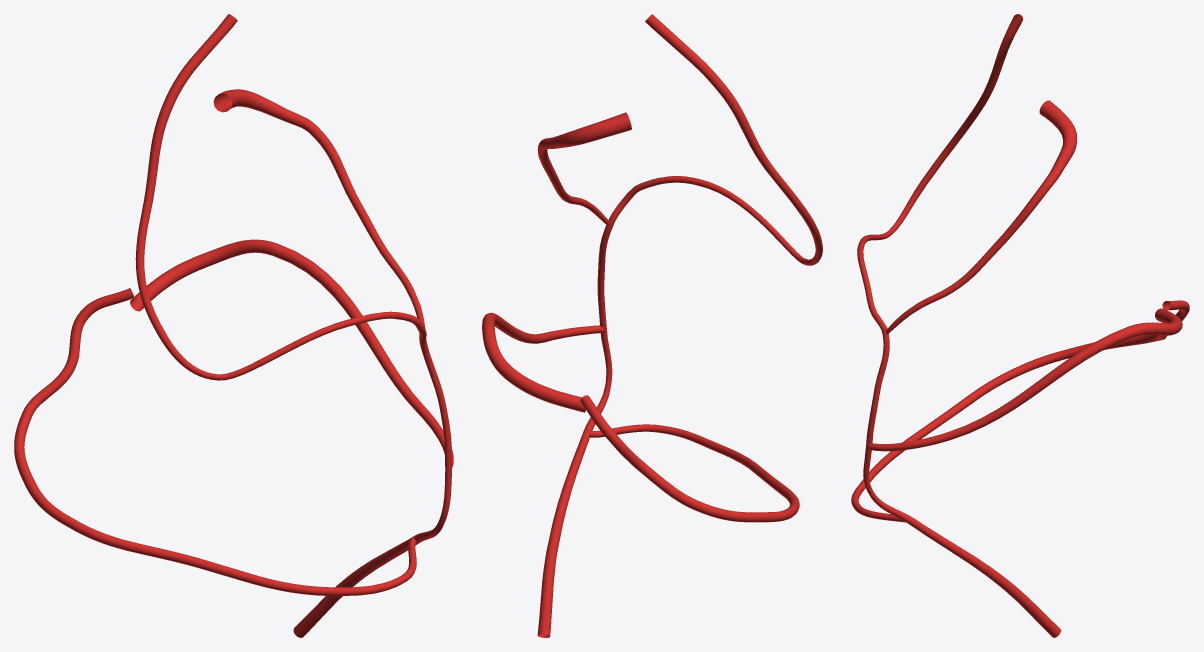
The model's file is circulatorio-genicular-veins-l.glb.
3 renders of one model, left to right at view 1: azimuth 30°, elevation 25°; view 2: azimuth 150°, elevation 25°; view 3: azimuth 270°, elevation 25°, orthographic. The views are drawn at different scales.
Parts seen in each view (by area): view 1: Genicular veins.l; view 2: Genicular veins.l; view 3: Genicular veins.l.
Boxes of the visible parts, x1,y1,x2,y2 form: Genicular veins.l: (14, 14, 453, 637); Genicular veins.l: (482, 14, 822, 637); Genicular veins.l: (851, 14, 1189, 637).
Bounding box in the file's own units: 0.0847 × 0.1647 × 0.0866.
